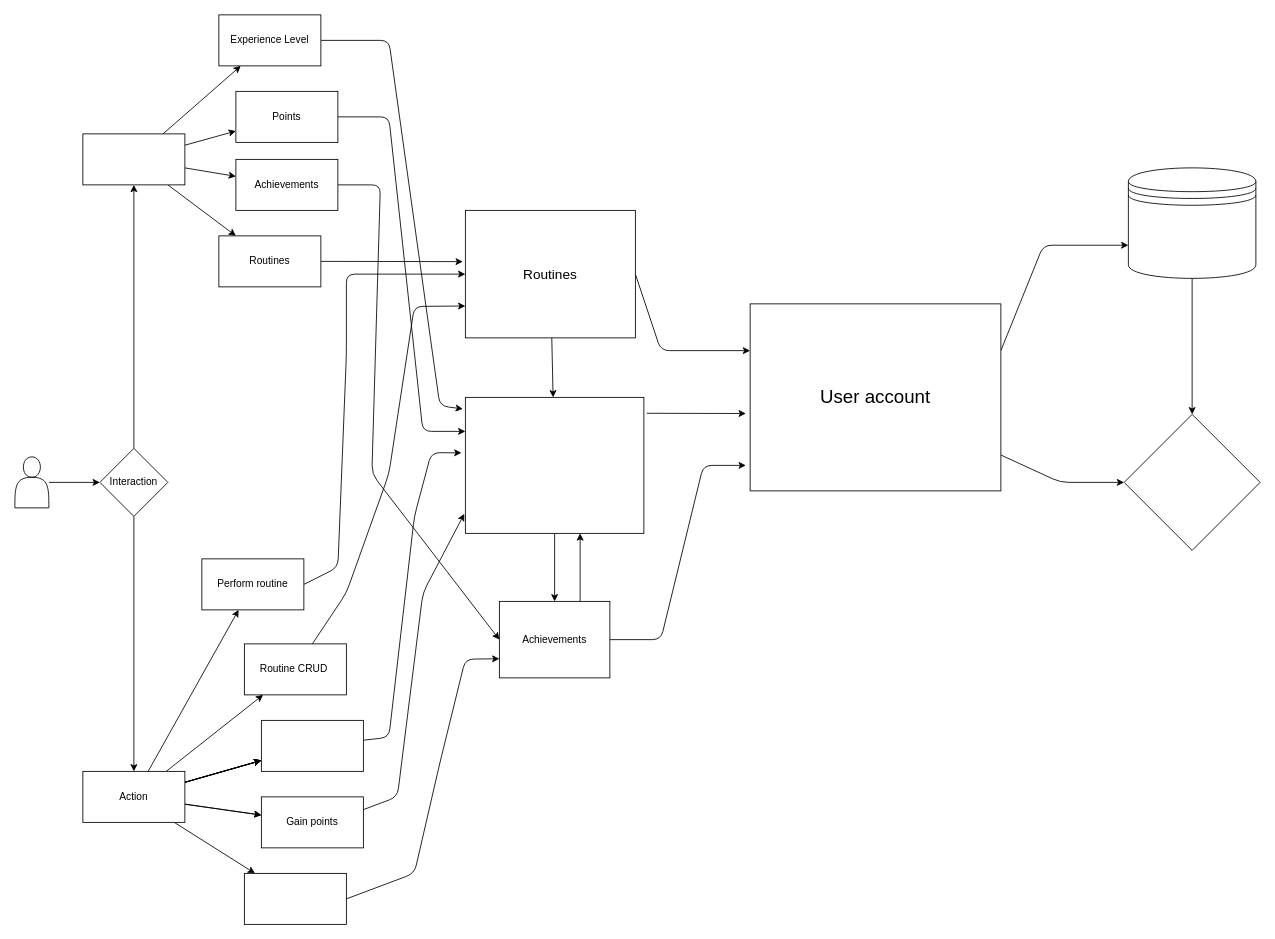
Some shapes in this 1275 by 939 pixel diagram are drawn without their labels. The centre of each missing label's shape, as x and y in pixels:
"Adjust experience level" belongs at [312,745].
"Database" belongs at [1192,222].
"Earn Achievement" belongs at [295,898].
"Question" belongs at [133,159].
"Redux" belongs at [1191,482].
"user stats" belongs at [554,465].
